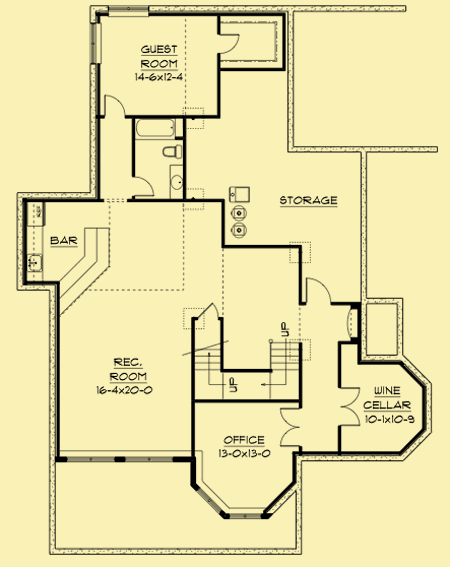door: (305, 275, 334, 307), (339, 386, 361, 427), (280, 404, 300, 449), (103, 92, 128, 122), (192, 301, 221, 323), (218, 32, 243, 57), (130, 176, 156, 199)
large_sink: (156, 142, 185, 164)
sink: (25, 252, 45, 274)
small_sink: (169, 166, 185, 201)
stairs: (191, 319, 301, 397)
tub: (135, 117, 176, 141)
window: (89, 20, 103, 66), (105, 4, 149, 17), (64, 454, 120, 464), (224, 511, 265, 523), (121, 457, 177, 463)
